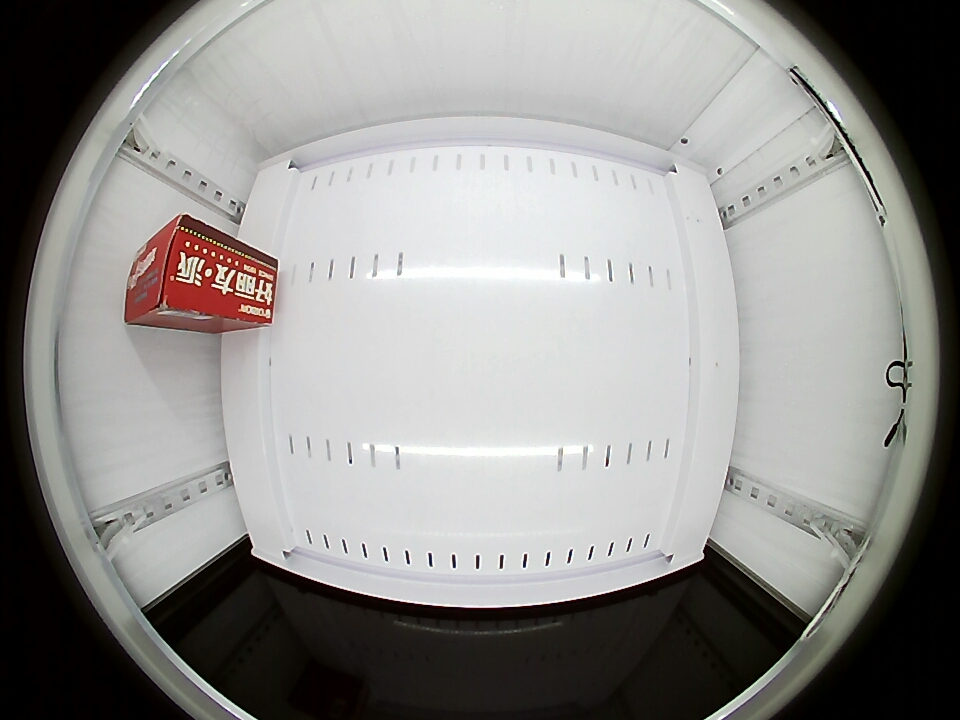haoliyou: (125, 214, 227, 327)
